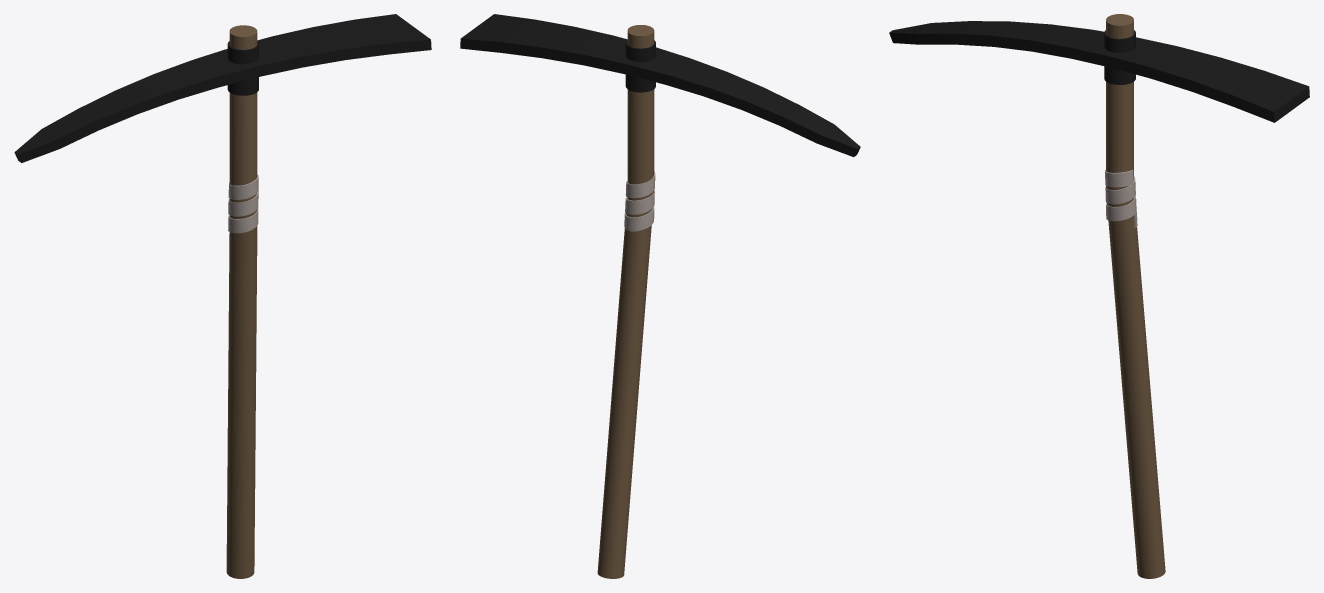
The model's file is ice_ax2.fbx.
3 renders of one model, left to right at view 1: azimuth 30°, elevation 25°; view 2: azimuth 150°, elevation 25°; view 3: azimuth 330°, elevation 25°, orthographic. The views are drawn at different scales.
Parts seen in each view (by area): view 1: Cylinder.004; view 2: Cylinder.004; view 3: Cylinder.004.
Boxes of the visible parts, x1,y1,x2,y2 form: Cylinder.004: [14, 14, 431, 578]; Cylinder.004: [460, 14, 860, 578]; Cylinder.004: [889, 14, 1309, 578].
Size of the model in its own units: 220 by 294 by 39.66.
